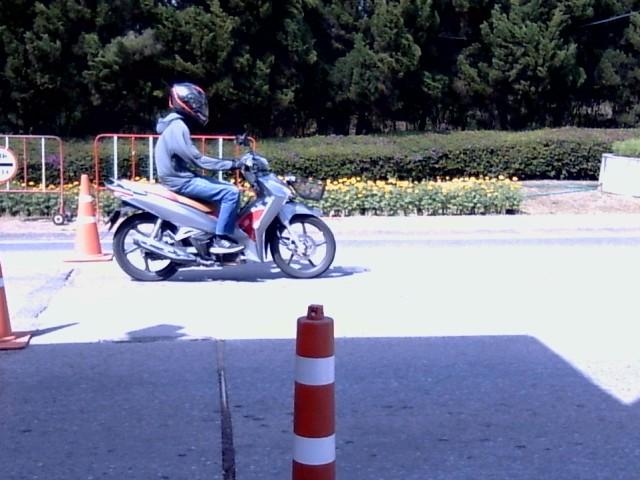helmet: (169, 82, 208, 124)
motor: (107, 147, 335, 279)
person: (154, 82, 241, 250)
